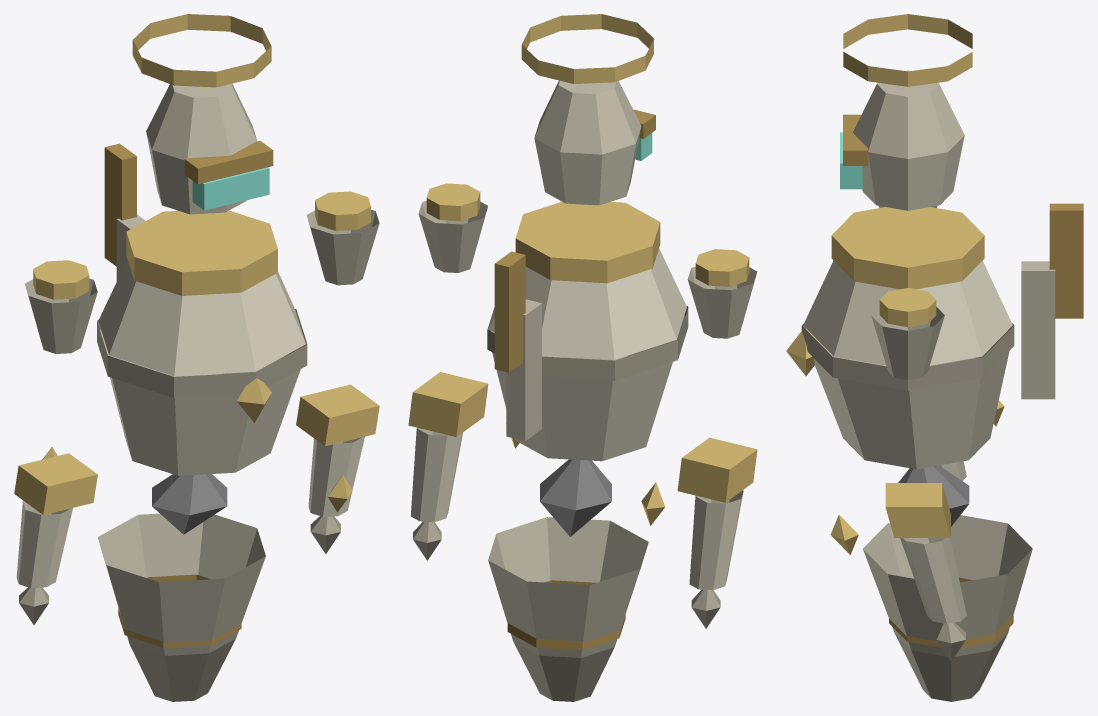
The model's file is acolyte-attack-0.obj.
The picture shows the model from 3 angles, left to right: view 1: azimuth 30°, elevation 25°; view 2: azimuth 150°, elevation 25°; view 3: azimuth 270°, elevation 25°; orthographic projection. The views are drawn at different scales.
Parts seen in each view (by area): view 1: acolyte-attack-0; view 2: acolyte-attack-0; view 3: acolyte-attack-0.
Part boxes in pixels (box(x1,y1,x2,y2)): acolyte-attack-0: box(14, 14, 379, 701); acolyte-attack-0: box(408, 14, 757, 701); acolyte-attack-0: box(786, 14, 1083, 701).
Size of the model in its own units: 1.38 by 2.52 by 1.05.
